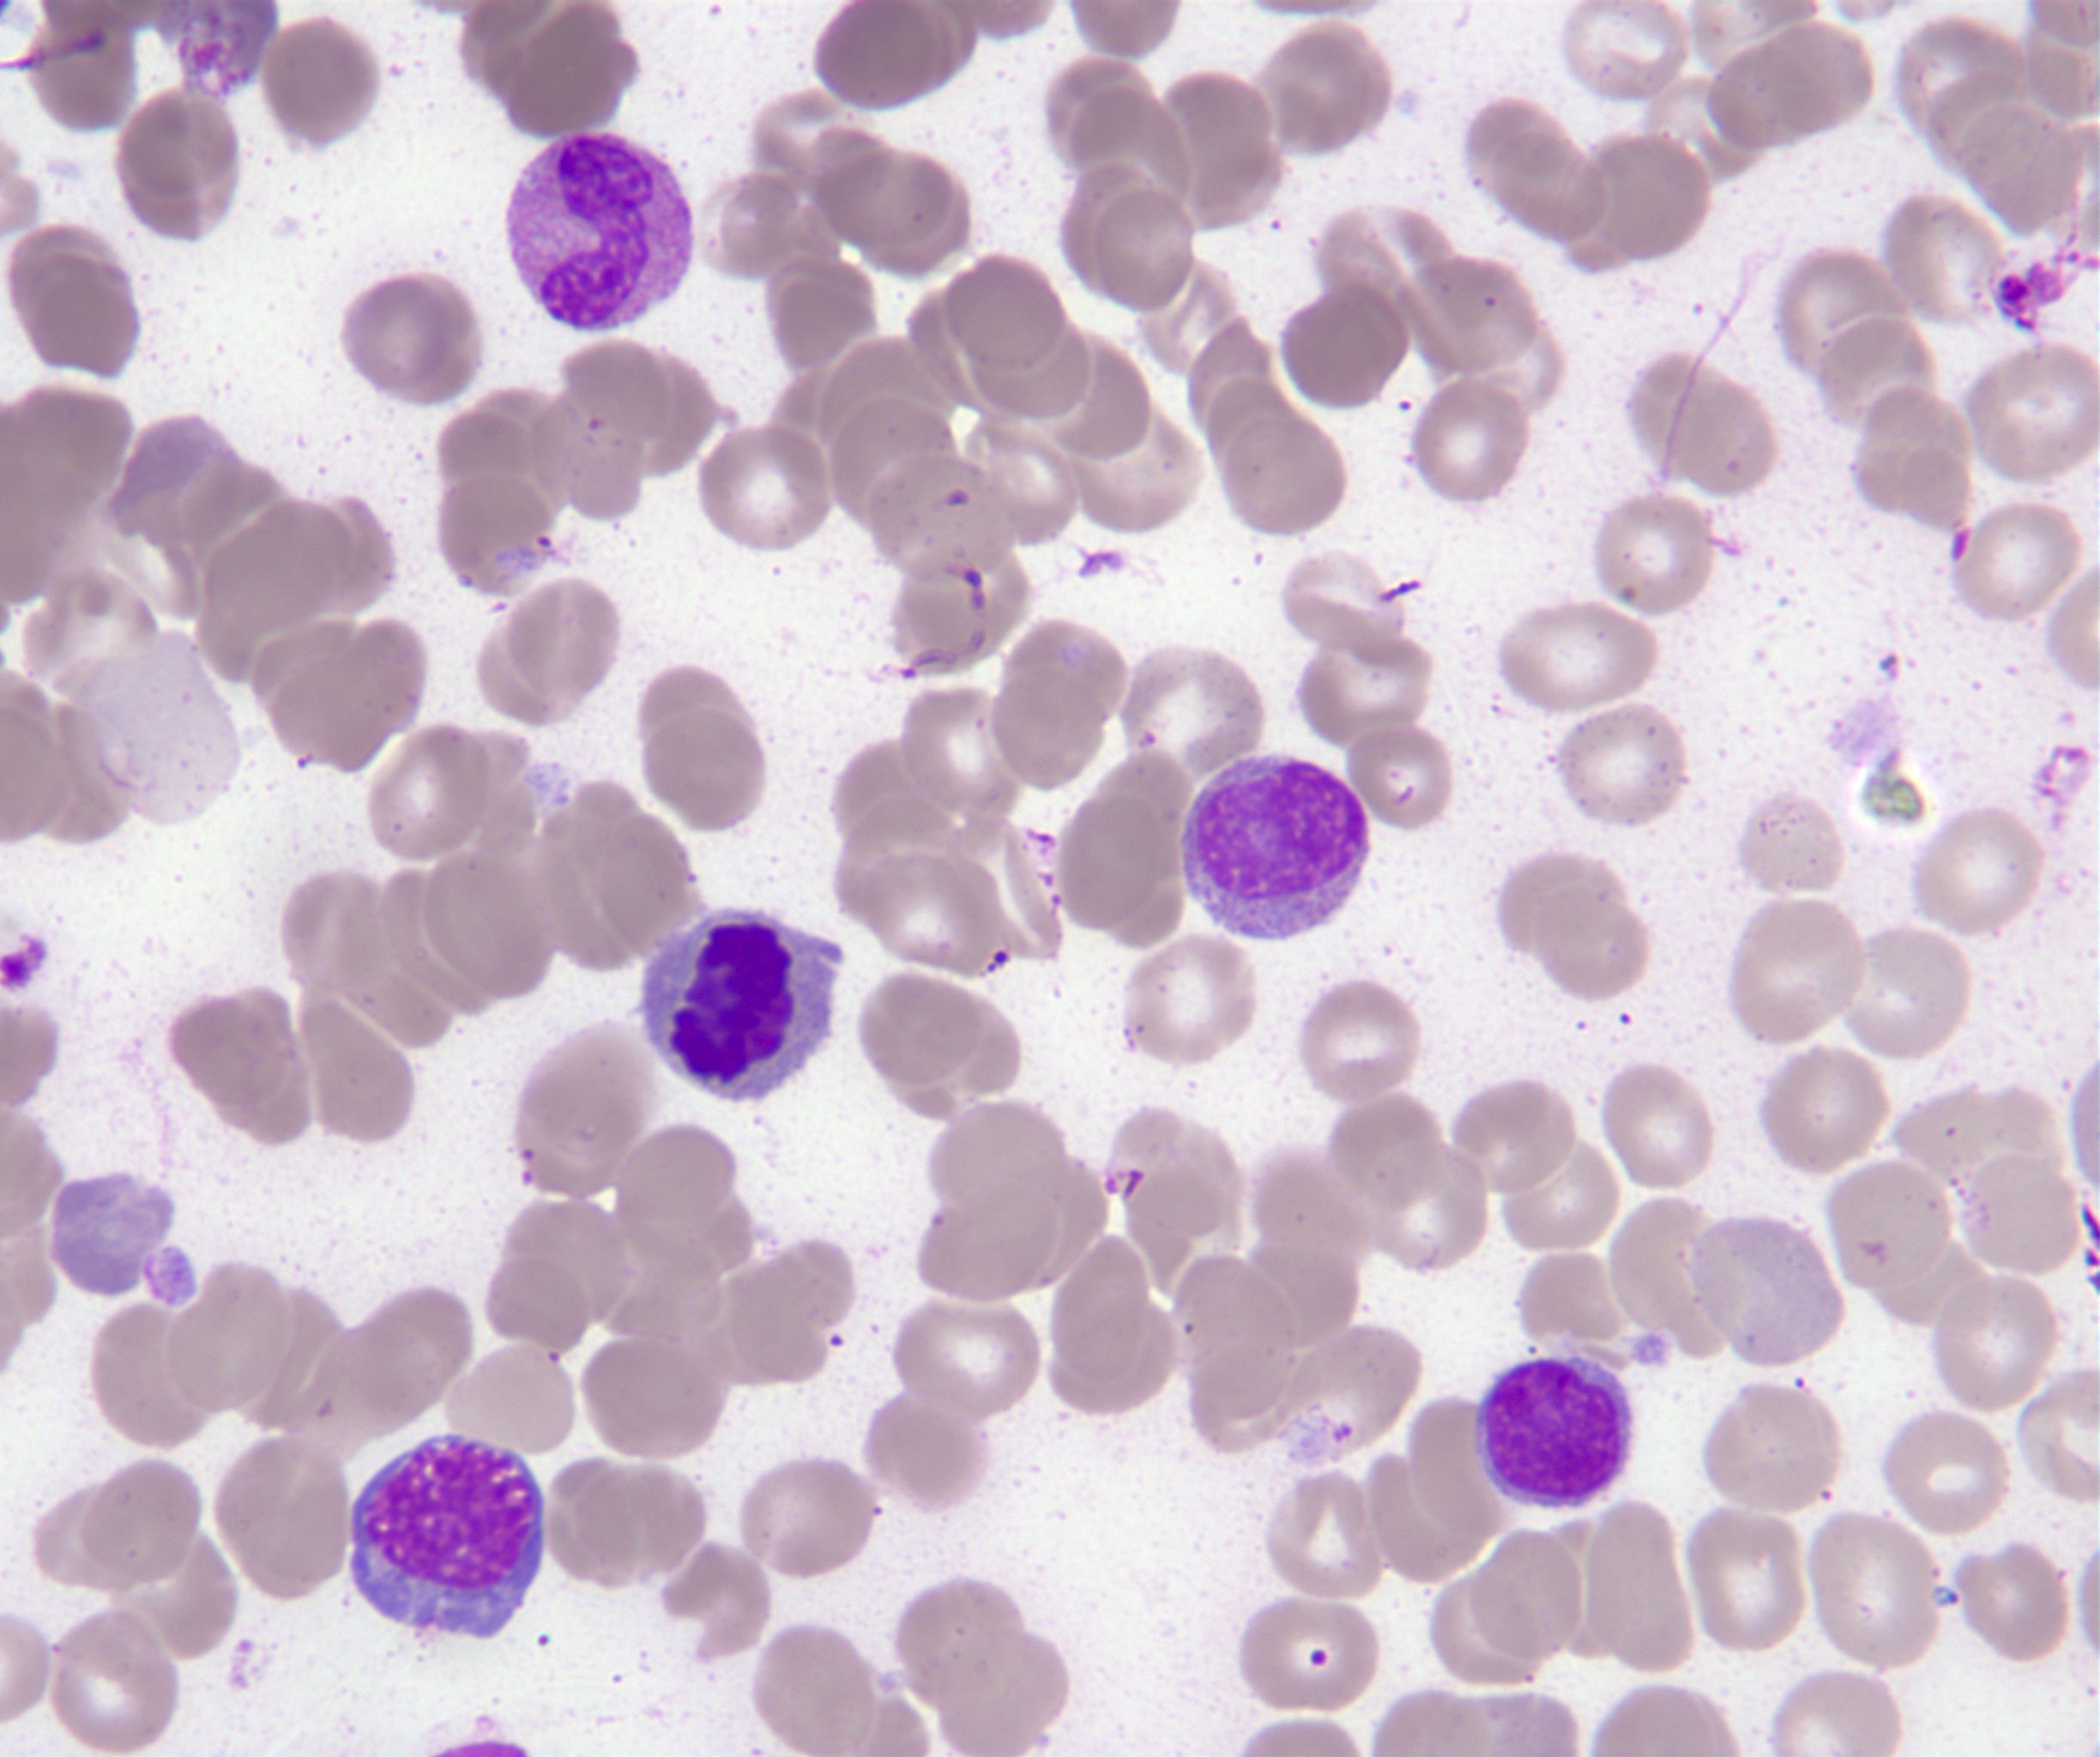2: (508, 136, 694, 333)
22: (352, 1438, 542, 1640)
3: (1183, 757, 1369, 939)
32: (1477, 1357, 1633, 1509)
x: (642, 909, 844, 1103)
